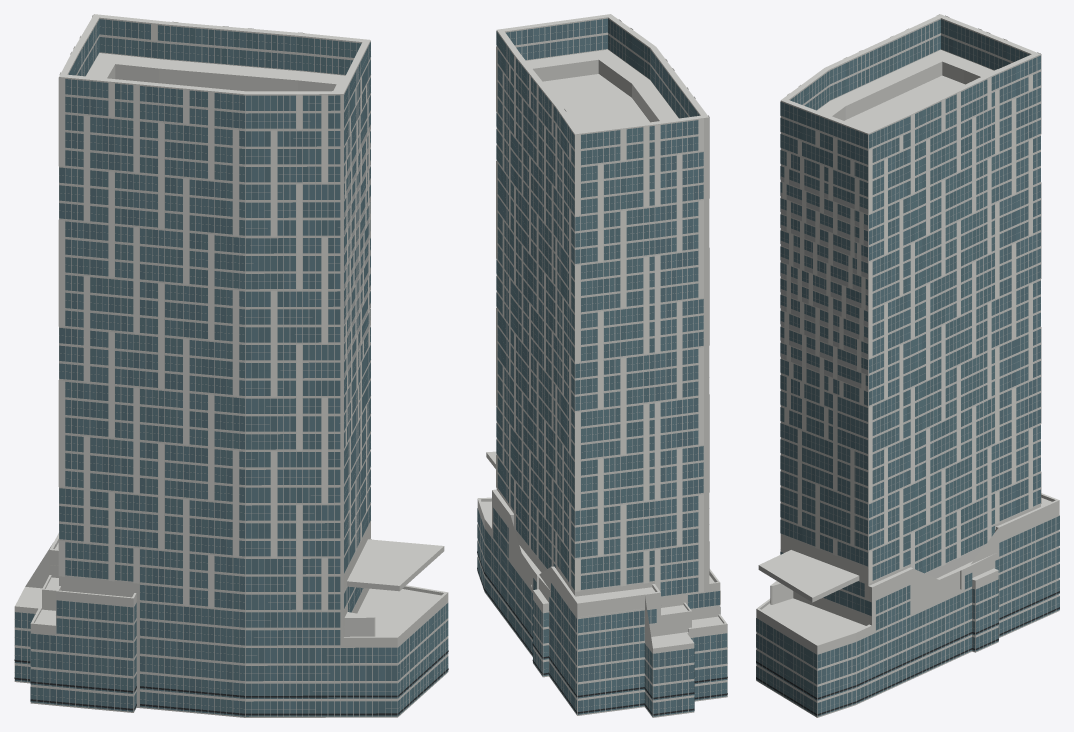
Rendered from stream.glb.
The picture shows the model from 3 angles, left to right: view 1: azimuth 30°, elevation 25°; view 2: azimuth 150°, elevation 25°; view 3: azimuth 270°, elevation 25°; orthographic projection. The views are drawn at different scales.
Parts seen in each view (by area): view 1: stream_wall, stream_glass2, stream_glass1, stream_glass0, stream_spandrel, stream_frame, stream_roof, stream_sign_housing; view 2: stream_wall, stream_glass1, stream_glass0, stream_glass2, stream_spandrel, stream_frame, stream_roof, stream_sign_housing; view 3: stream_wall, stream_glass1, stream_glass0, stream_glass2, stream_spandrel, stream_frame, stream_roof, stream_sign_housing.
Part boxes in pixels (x1,y1,x2,y2): stream_wall: [14, 17, 448, 717]; stream_glass2: [21, 19, 448, 716]; stream_glass1: [15, 19, 448, 716]; stream_glass0: [15, 22, 445, 716]; stream_spandrel: [15, 15, 448, 717]; stream_frame: [14, 20, 448, 716]; stream_roof: [15, 14, 447, 637]; stream_sign_housing: [14, 650, 448, 715]; stream_wall: [477, 17, 727, 717]; stream_glass1: [477, 19, 721, 715]; stream_glass0: [477, 19, 727, 716]; stream_glass2: [479, 18, 727, 716]; stream_spandrel: [484, 19, 726, 717]; stream_frame: [482, 19, 726, 715]; stream_roof: [477, 14, 726, 648]; stream_sign_housing: [477, 551, 727, 715]; stream_wall: [756, 18, 1059, 717]; stream_glass1: [763, 19, 1059, 716]; stream_glass0: [756, 23, 1059, 716]; stream_glass2: [756, 21, 1059, 712]; stream_spandrel: [756, 14, 1059, 716]; stream_frame: [756, 23, 1059, 709]; stream_roof: [756, 14, 1059, 645]; stream_sign_housing: [756, 591, 1059, 715].
Size of the model in its own units: 105 by 182 by 88.93.
